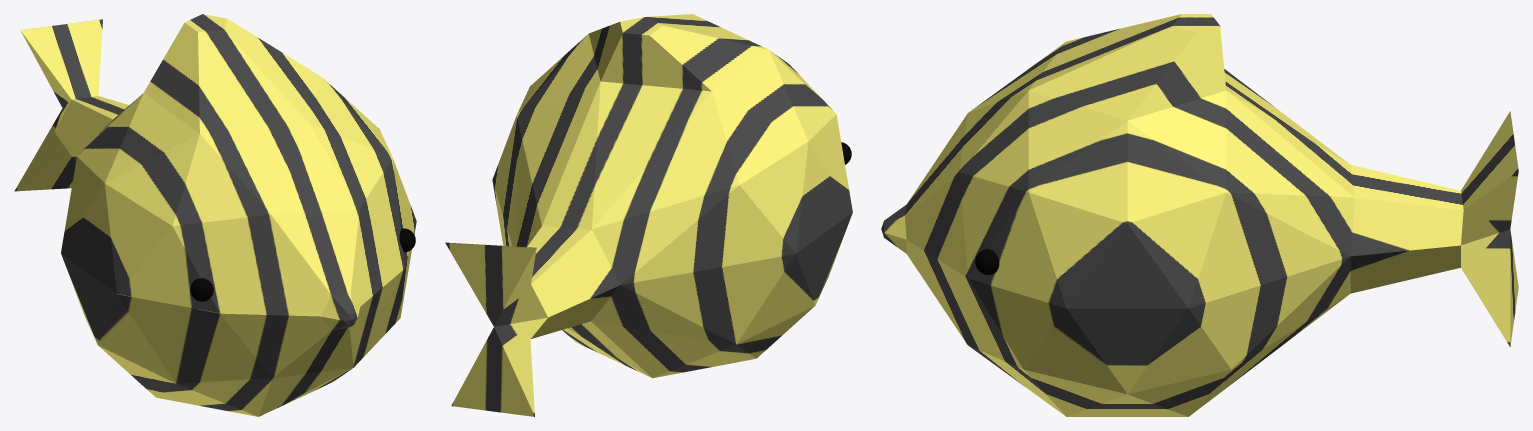
Rendered from Fish4.glb.
The picture shows the model from 3 angles, left to right: view 1: azimuth 30°, elevation 25°; view 2: azimuth 150°, elevation 25°; view 3: azimuth 270°, elevation 25°; orthographic projection. The views are drawn at different scales.
Visible parts, largest first — view 1: Icosphere, Sphere.001; view 2: Icosphere; view 3: Icosphere.
Boxes of the visible parts, x1,y1,x2,y2 form: Icosphere: [14, 14, 416, 416]; Sphere.001: [190, 278, 213, 301]; Icosphere: [445, 14, 852, 416]; Icosphere: [881, 14, 1518, 416].
Size of the model in its own units: 0.12 by 0.136 by 0.2036.
2 materials, 1 textured.
